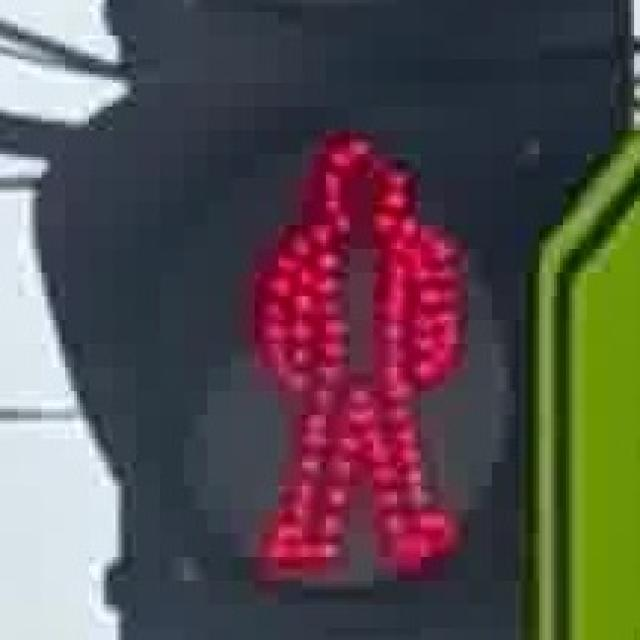red_light: (216, 104, 492, 602)
